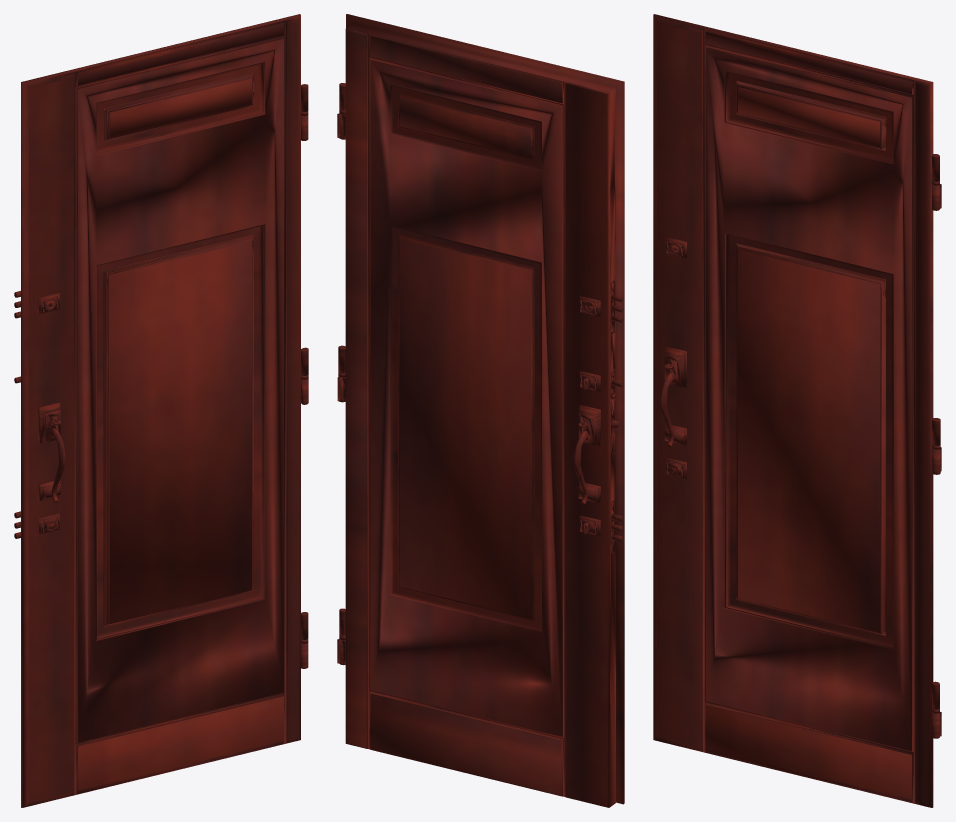
The model's file is PuertaD.obj.
3 renders of one model, left to right at view 1: azimuth 30°, elevation 25°; view 2: azimuth 150°, elevation 25°; view 3: azimuth 330°, elevation 25°, orthographic.
Parts seen in each view (by area): view 1: Entrance_Door_003.001; view 2: Entrance_Door_003.001; view 3: Entrance_Door_003.001.
Boxes of the visible parts, x1,y1,x2,y2 form: Entrance_Door_003.001: (14,14,308,807); Entrance_Door_003.001: (337,14,624,807); Entrance_Door_003.001: (653,14,941,807).
Bounding box in the file's own units: 5.22 × 12.52 × 1.32.
Materials: 1 (1 with a texture image).
